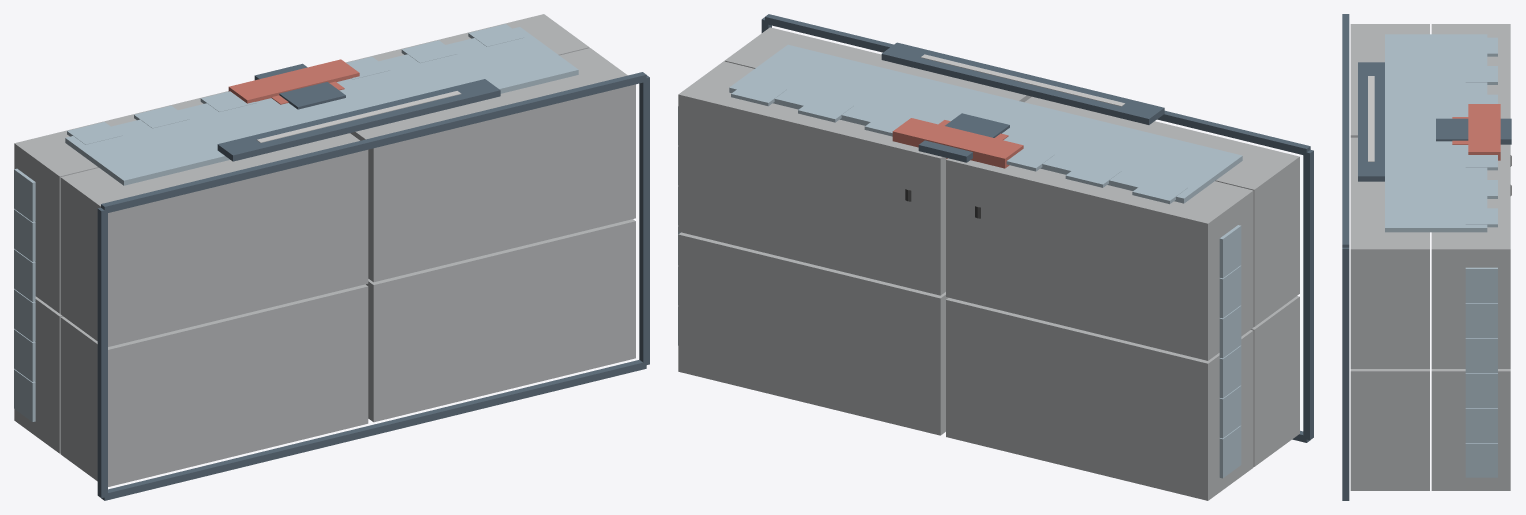
Rendered from building-car-dealership.glb.
The picture shows the model from 3 angles, left to right: view 1: azimuth 30°, elevation 25°; view 2: azimuth 150°, elevation 25°; view 3: azimuth 270°, elevation 25°; orthographic projection. The views are drawn at different scales.
Visible parts, largest first — view 1: world; view 2: world; view 3: world.
Boxes of the visible parts, x1=… form: world: x1=14, y1=14, x2=649, y2=500; world: x1=678, y1=14, x2=1313, y2=500; world: x1=1342, y1=14, x2=1511, y2=500.
Bounding box in the file's own units: 20.5 × 10.93 × 6.28.
